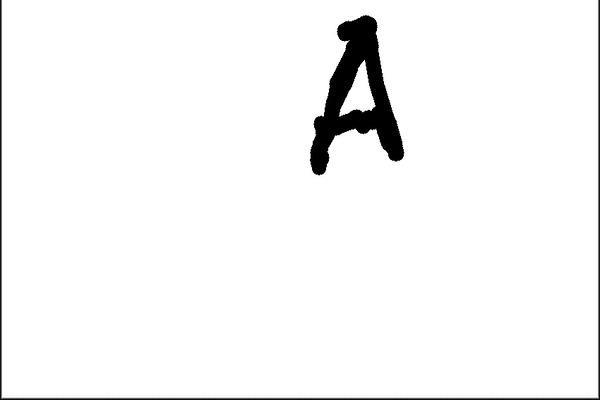A: (295, 6, 414, 183)
